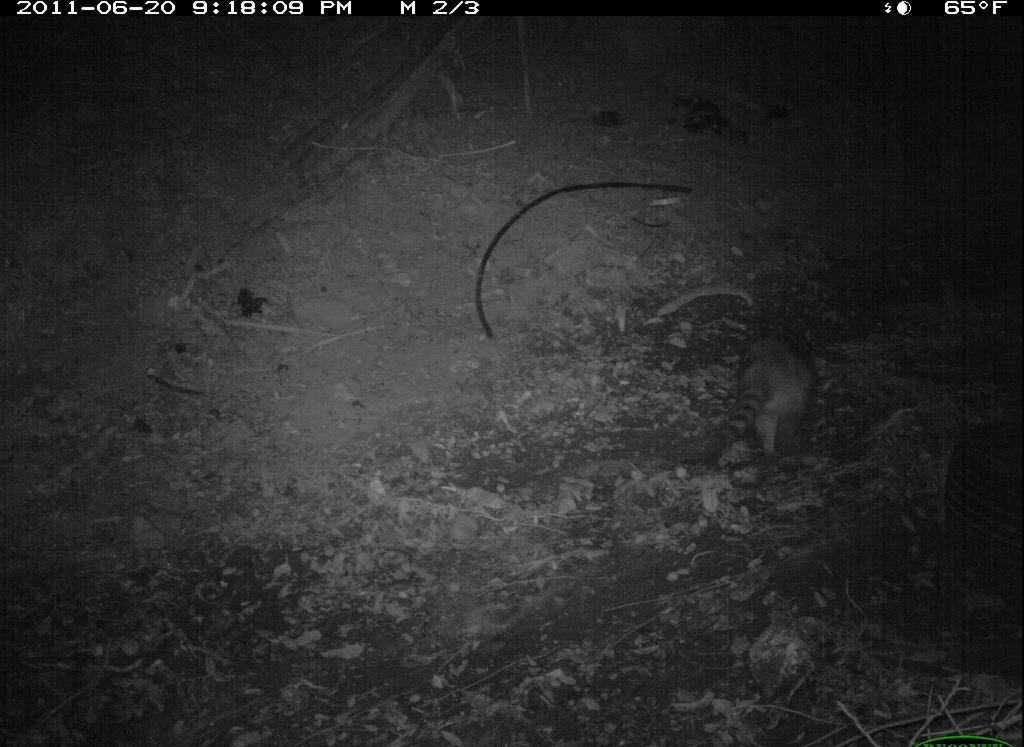raccoon: (694, 317, 840, 477)
